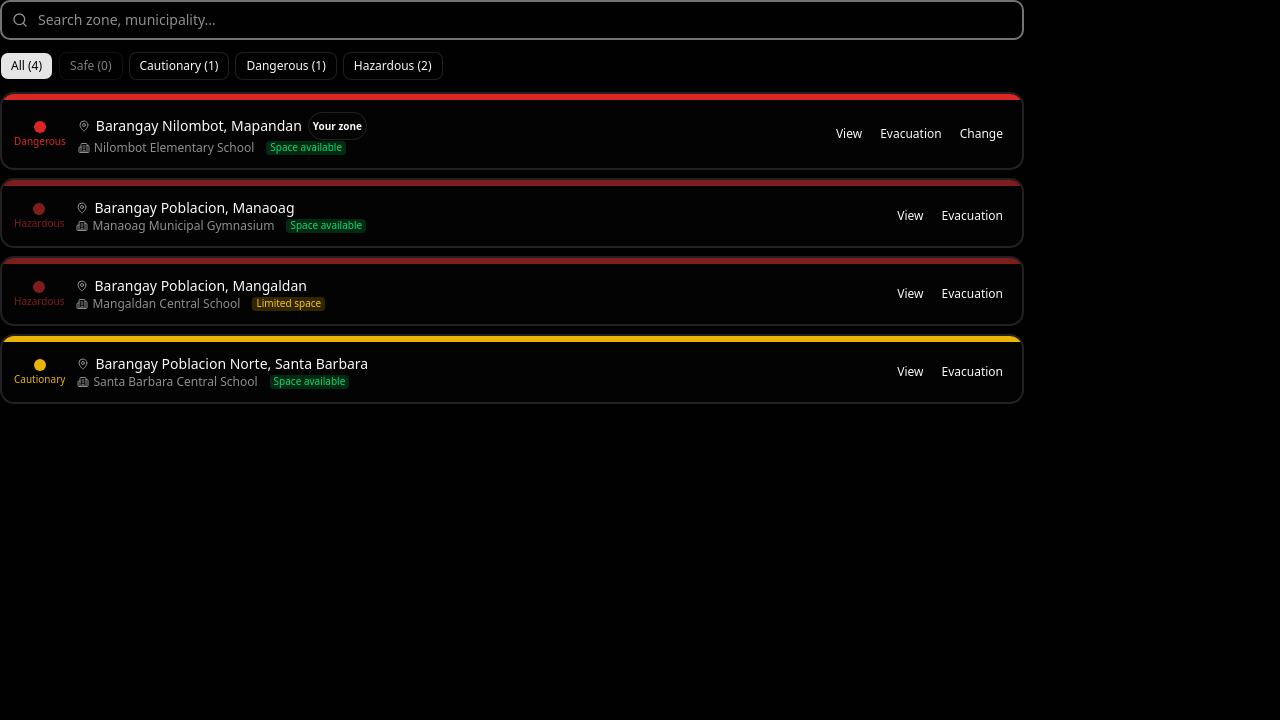
ZoneMap card actions (the barangay on the card, not your own) › lets you change your barangay from your own card
The image size is (1280, 720).
Check: the button "change my barangay" is not shown
Click the button with aria-label "change my barangay".
click(981, 134)  # box [953,122,1010,146]
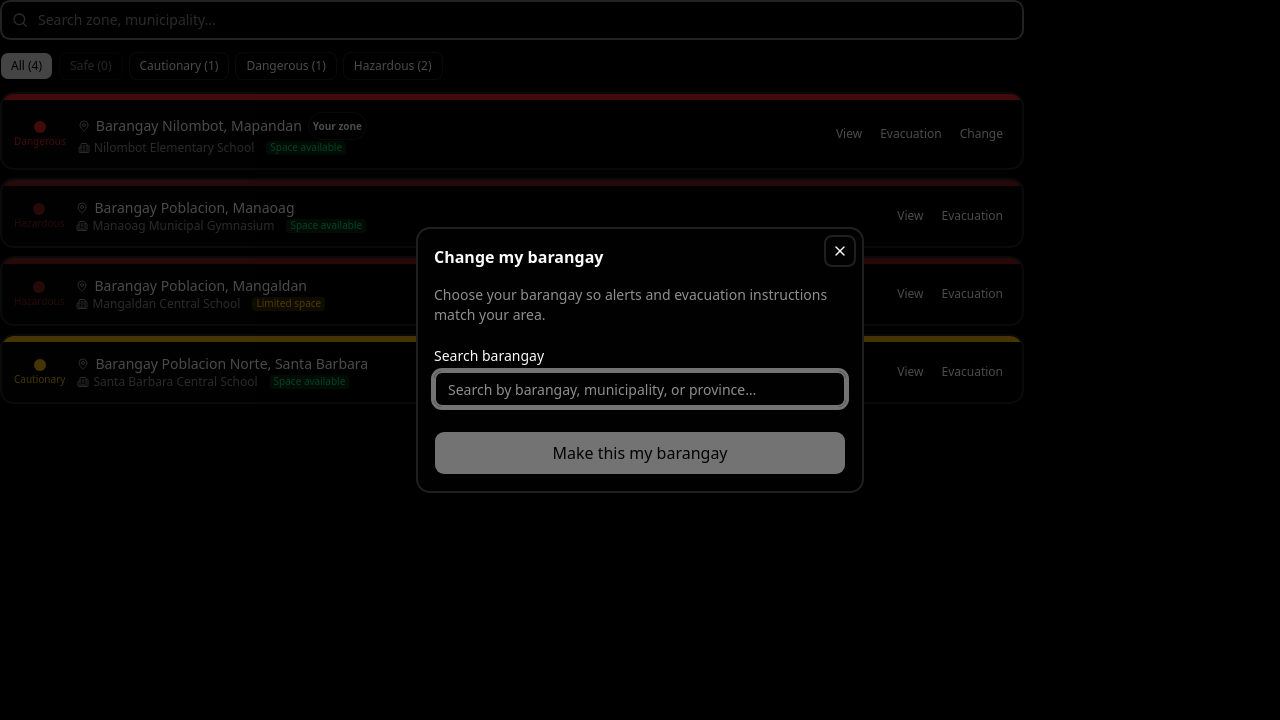
Check: the dialog named "Change my barangay" is shown, box [824,235,856,267]
